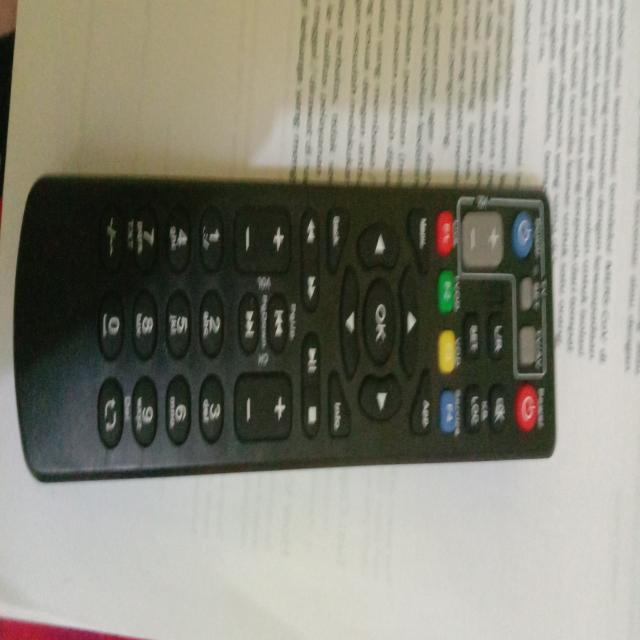remote: (14, 172, 560, 485)
